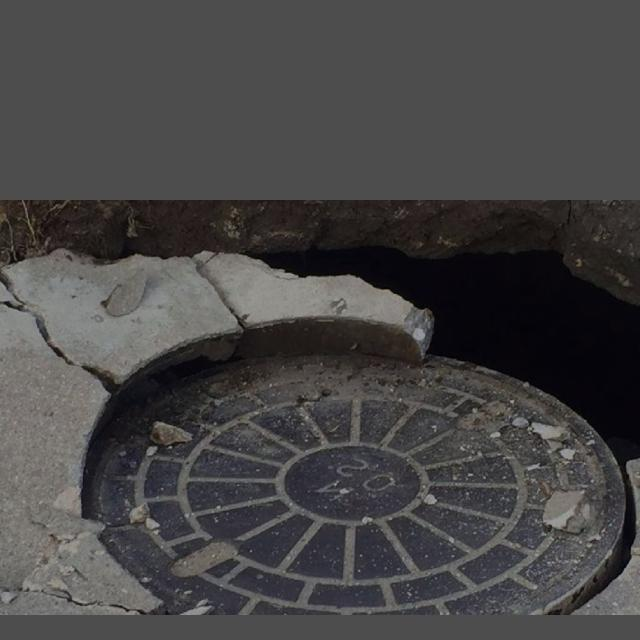circle: (0, 216, 640, 610)
